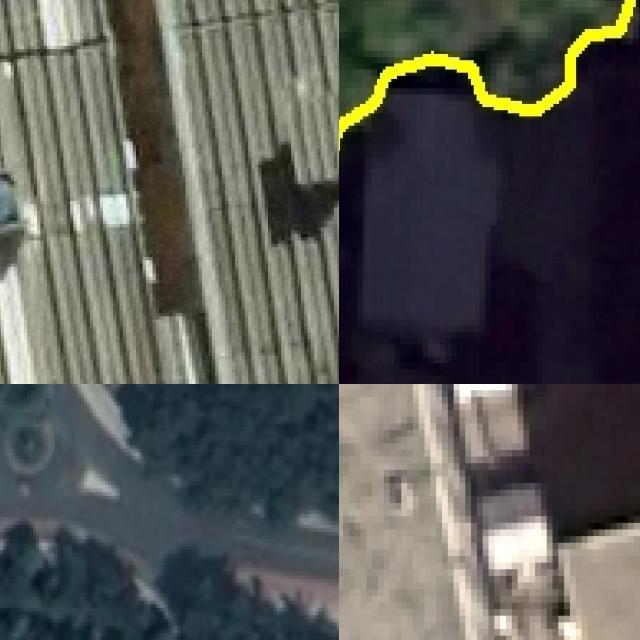trees: (340, 1, 631, 131), (1, 540, 340, 640), (124, 385, 340, 521), (136, 385, 340, 519)
